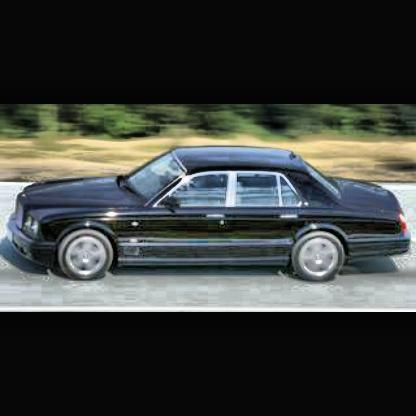Bentley Arnage Sedan 2009: (9, 144, 414, 287)
